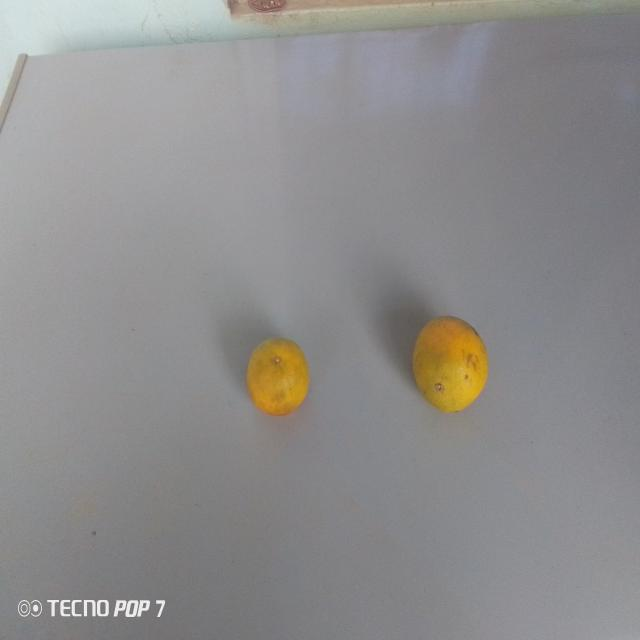Ripe orange: (404, 310, 492, 422), (235, 331, 322, 425)
